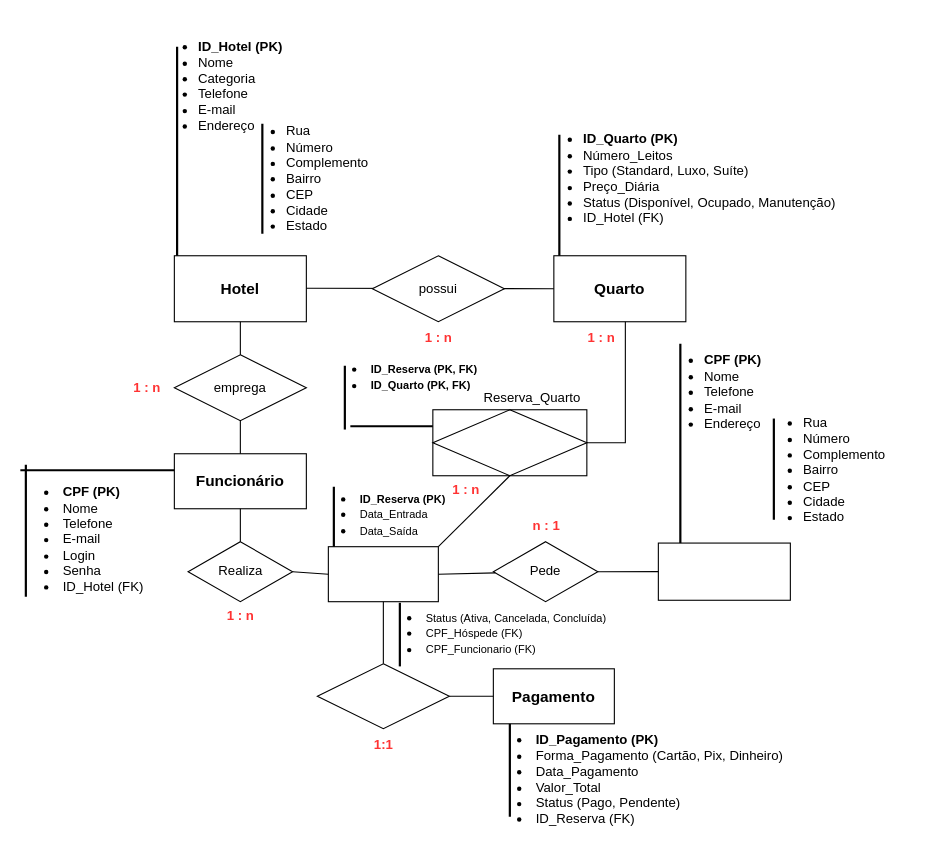
Some shapes in this 930 by 853 pixel diagram are drawn without their labels. Each missing label, with the centre of its shape:
Contém: the point at 509,442
Gera: the point at 382,696
Hóspede: the point at 723,571
Reserva: the point at 382,574
